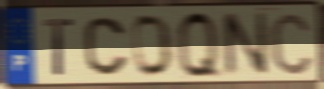C: (268, 10, 315, 78), (81, 15, 131, 77)
N: (219, 9, 270, 79)
O: (130, 13, 175, 79)
Q: (174, 8, 224, 82)
T: (42, 16, 76, 78)
